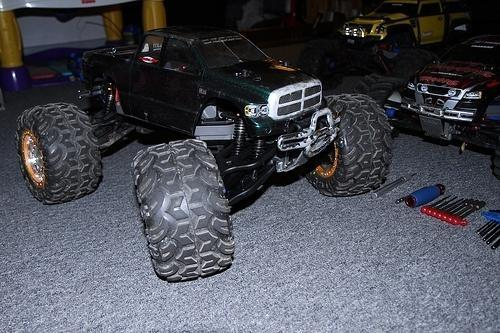Car: (17, 17, 389, 284)
